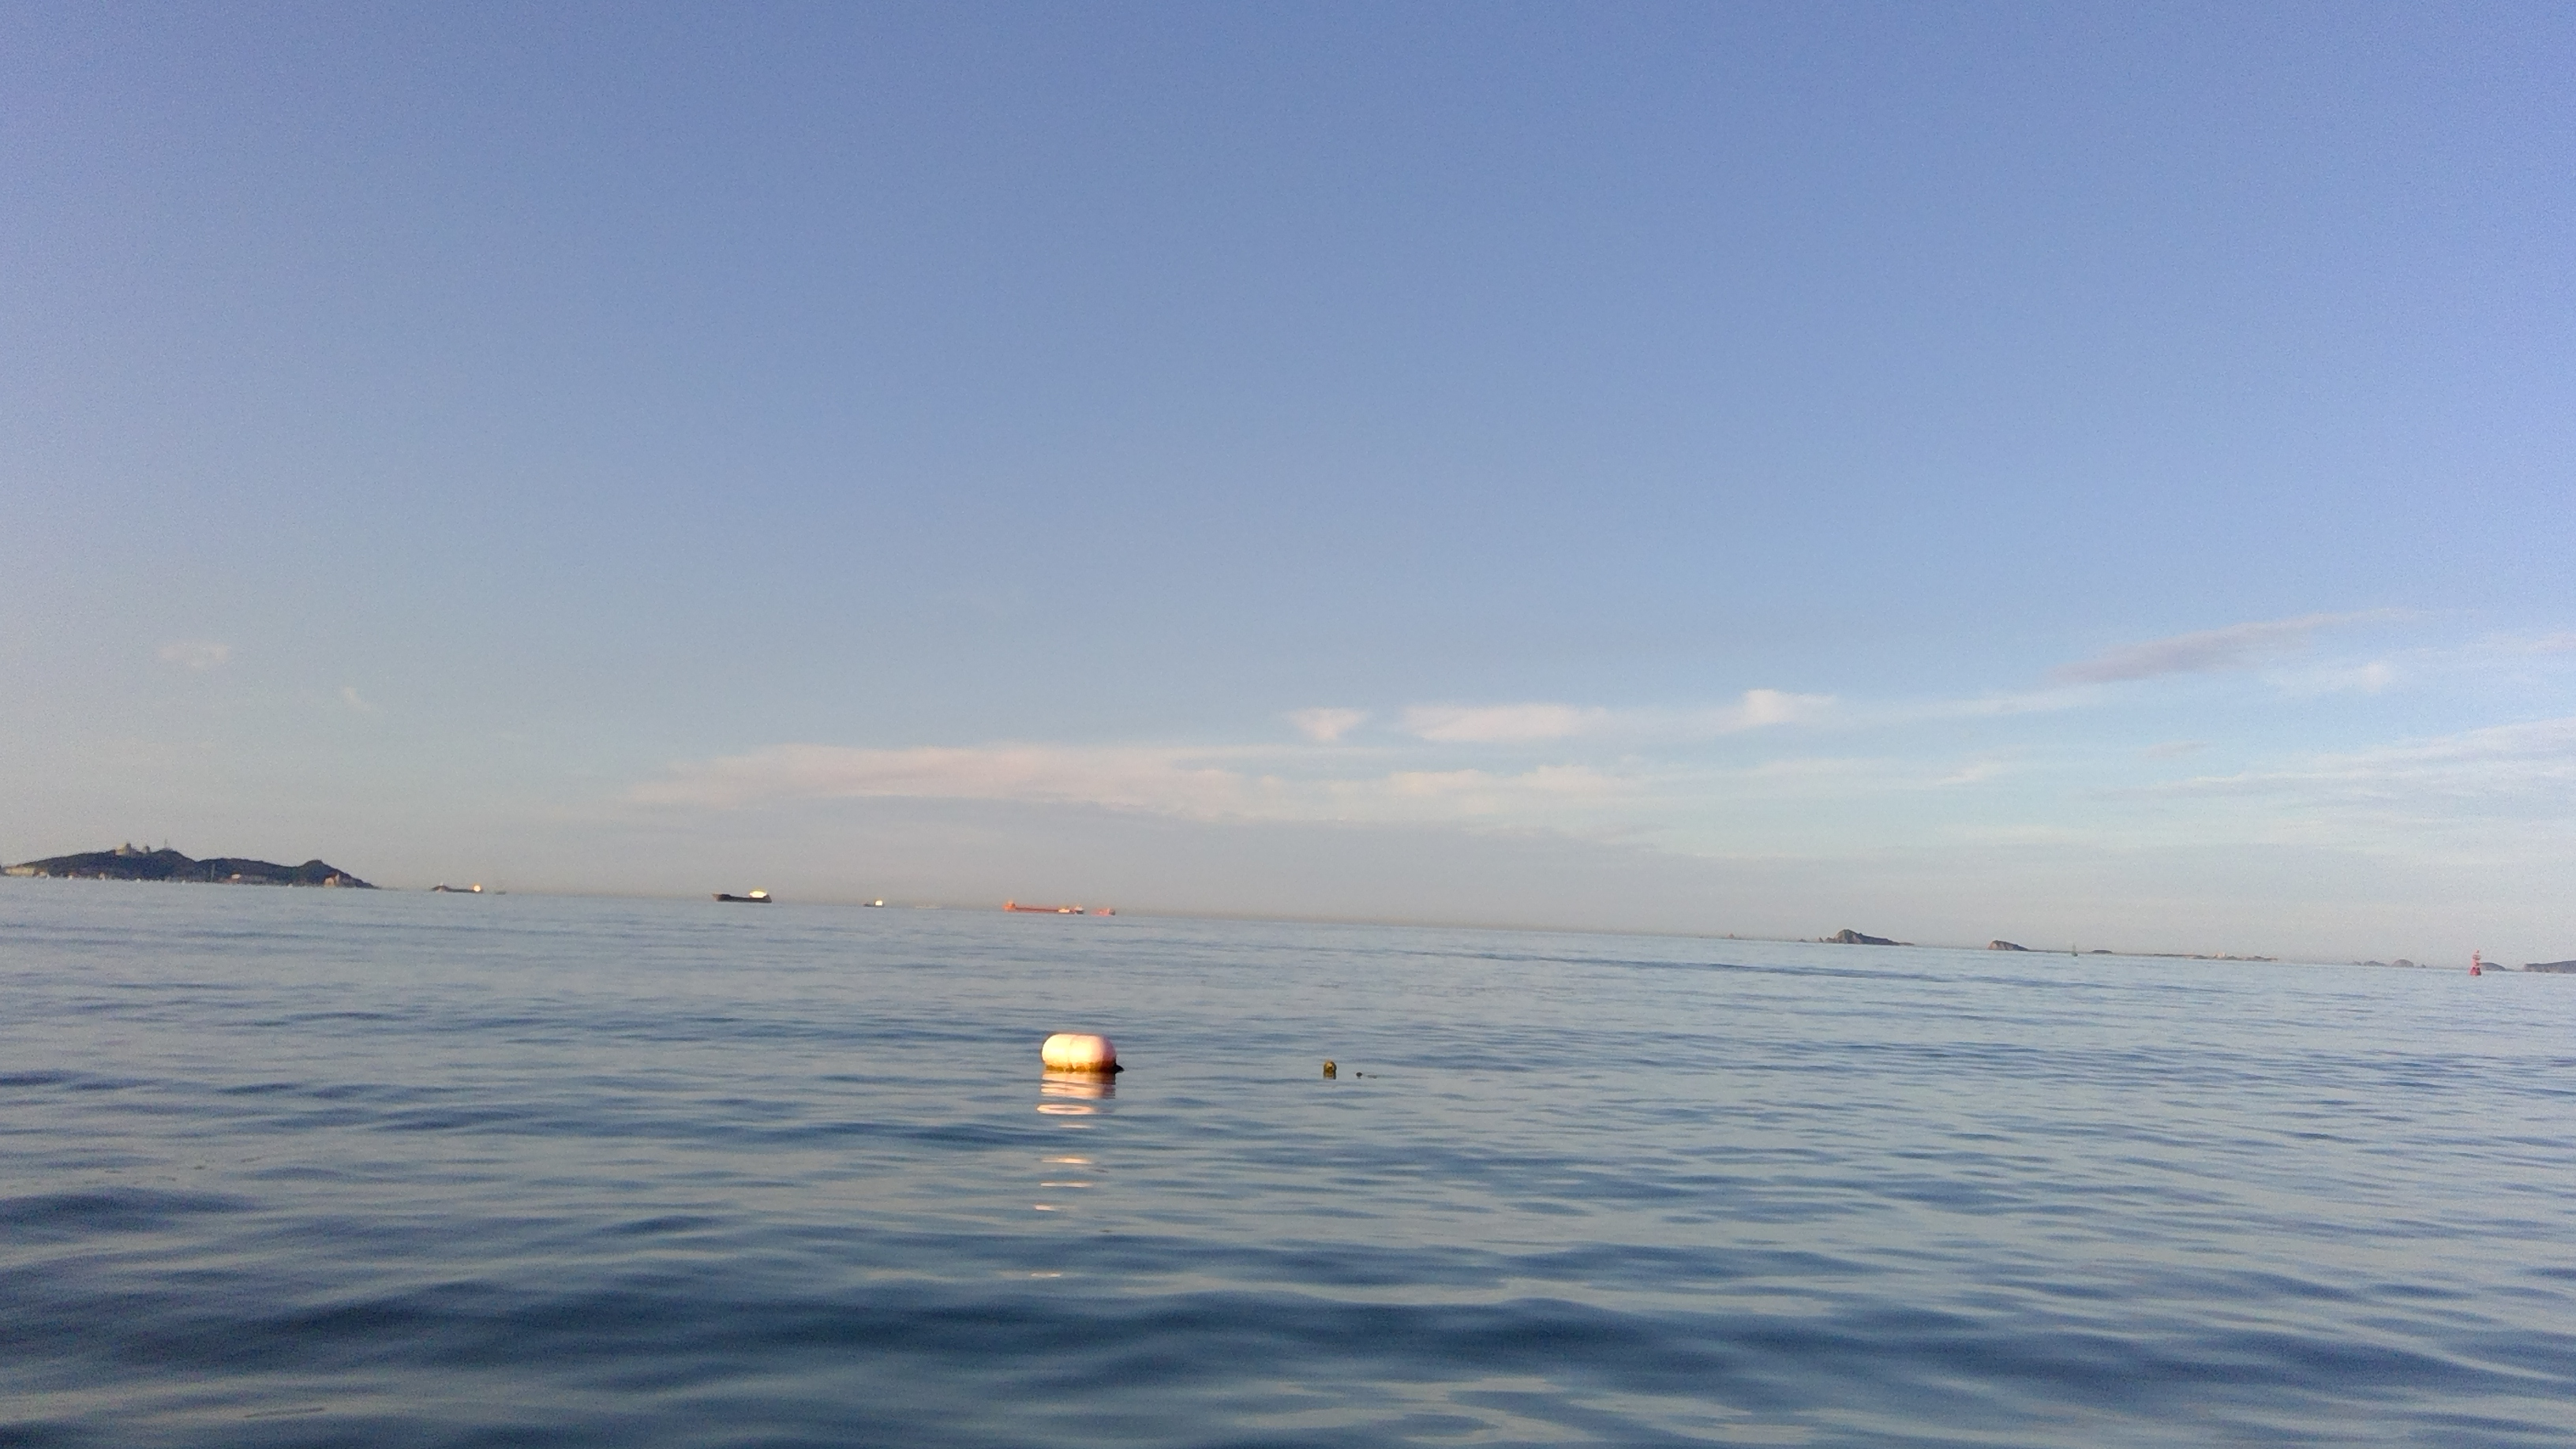ball: (1028, 1021, 1131, 1090)
buoy: (2472, 945, 2493, 987)
platform: (985, 897, 1134, 925)
rock: (2, 819, 384, 888), (1798, 911, 1909, 954), (1987, 922, 2040, 957), (2525, 948, 2576, 978)
rubbish: (1315, 1042, 1373, 1090)
ship: (430, 867, 497, 911), (718, 878, 786, 908)
